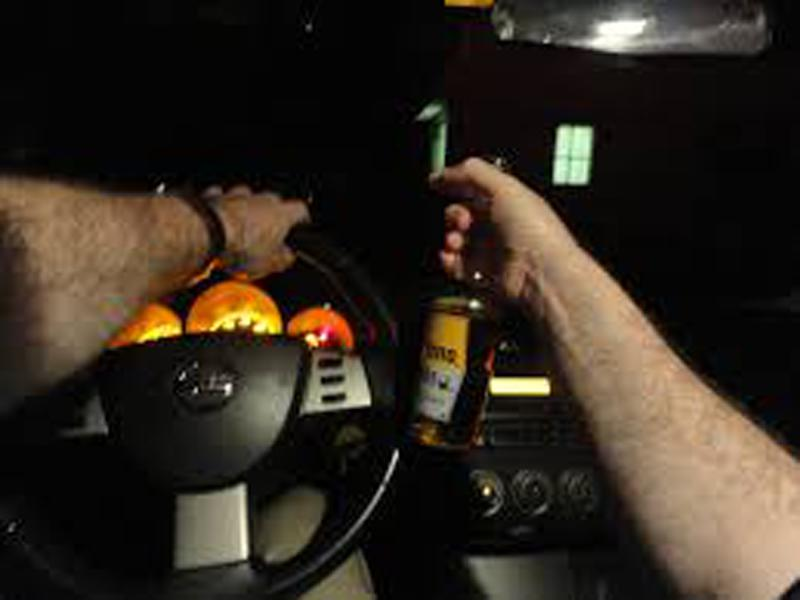Beer: (398, 158, 513, 445)
